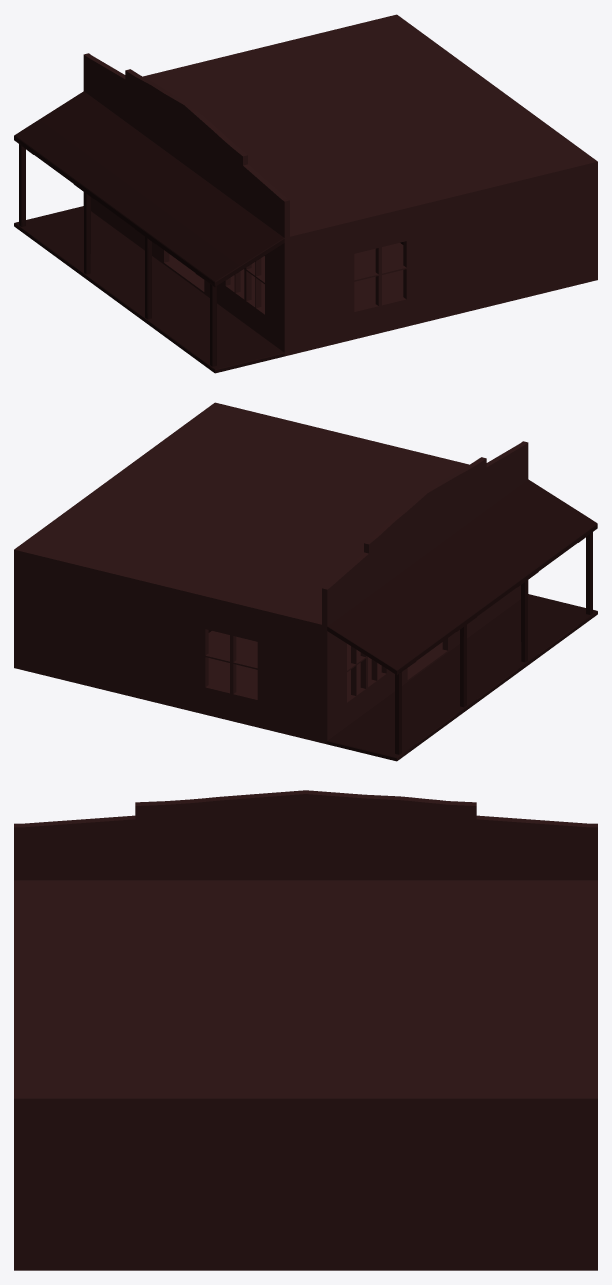
File: Saloon.FBX
The picture shows the model from 3 angles, top to bottom: view 1: azimuth 30°, elevation 25°; view 2: azimuth 150°, elevation 25°; view 3: azimuth 270°, elevation 25°; orthographic projection. The views are drawn at different scales.
Visible parts, largest first — view 1: SaloonDetach005, SaloonDetach003, SaloonDetach001, SaloonDetach002, SaloonDetach, SaloonDetach006, SaloonDetach004; view 2: SaloonDetach005, SaloonDetach004, SaloonDetach001, SaloonDetach002, SaloonDetach, SaloonDetach006, SaloonDetach003; view 3: SaloonDetach005, SaloonDetach, SaloonDetach002, SaloonDetach004, SaloonDetach003.
Boxes of the visible parts, x1,y1,x2,y2 form: SaloonDetach005: [146, 16, 594, 233]; SaloonDetach003: [290, 159, 597, 354]; SaloonDetach001: [14, 91, 284, 373]; SaloonDetach002: [83, 53, 289, 356]; SaloonDetach: [169, 243, 403, 309]; SaloonDetach006: [19, 144, 216, 366]; SaloonDetach004: [143, 14, 399, 78]; SaloonDetach005: [17, 404, 465, 621]; SaloonDetach004: [14, 547, 321, 742]; SaloonDetach001: [327, 479, 597, 761]; SaloonDetach002: [322, 441, 528, 744]; SaloonDetach: [208, 631, 442, 697]; SaloonDetach006: [395, 532, 592, 754]; SaloonDetach003: [212, 402, 468, 466]; SaloonDetach005: [22, 880, 589, 1098]; SaloonDetach: [22, 1098, 589, 1270]; SaloonDetach002: [14, 790, 597, 880]; SaloonDetach004: [589, 880, 597, 1270]; SaloonDetach003: [14, 880, 22, 1270].
Size of the model in its own units: 11 by 4.88 by 10.
